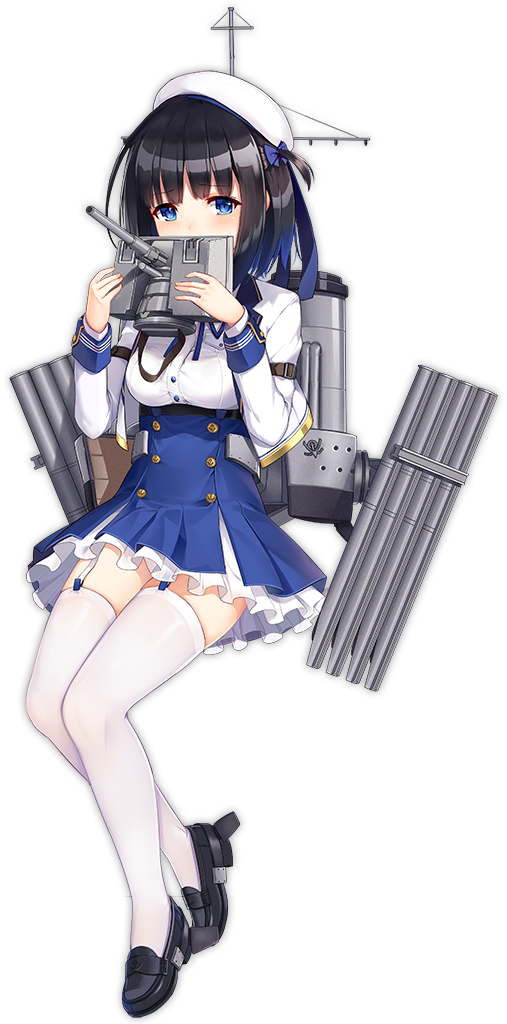person: (1, 80, 437, 771)
